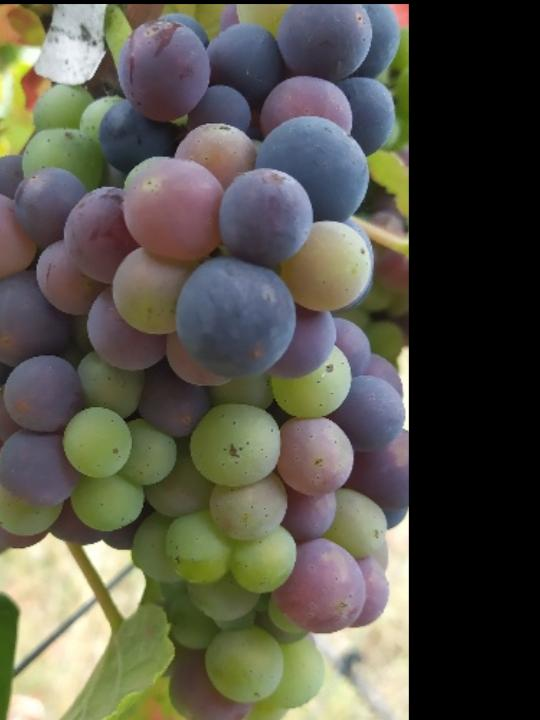grape: (0, 0, 438, 720)
